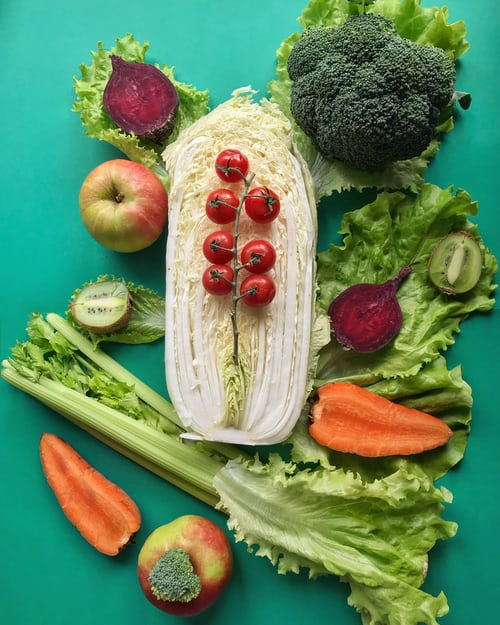apple: (75, 155, 166, 259)
